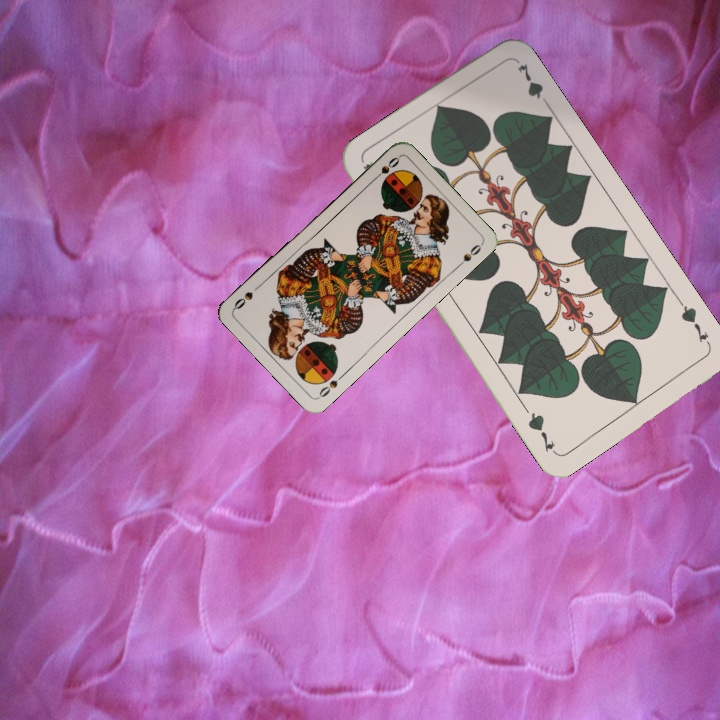G7: (675, 297, 714, 350)
SO: (368, 153, 402, 184), (314, 370, 347, 401)
